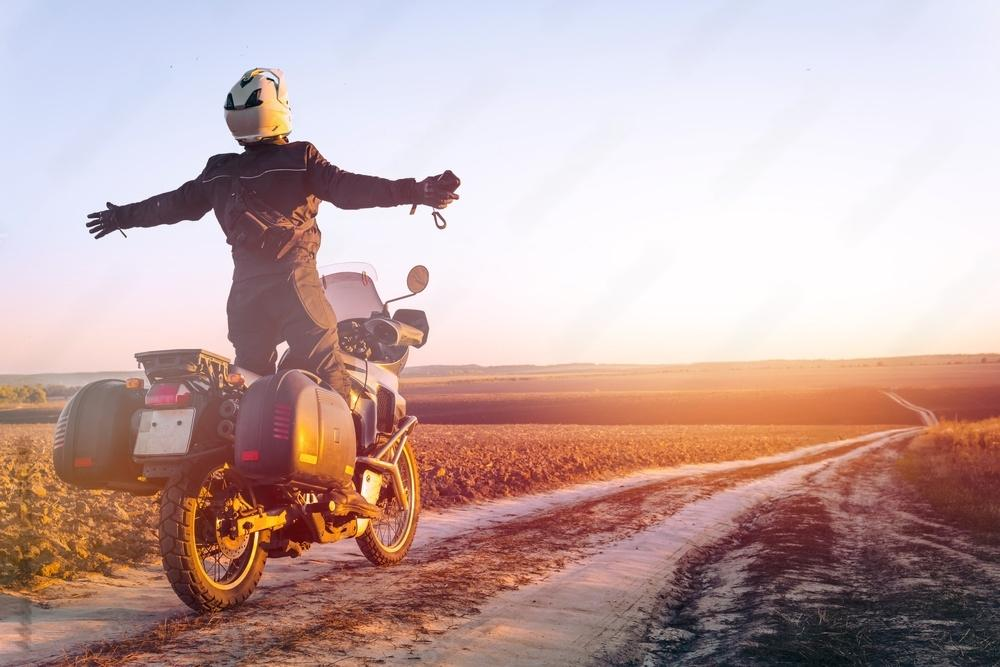helmet: (223, 67, 294, 146)
